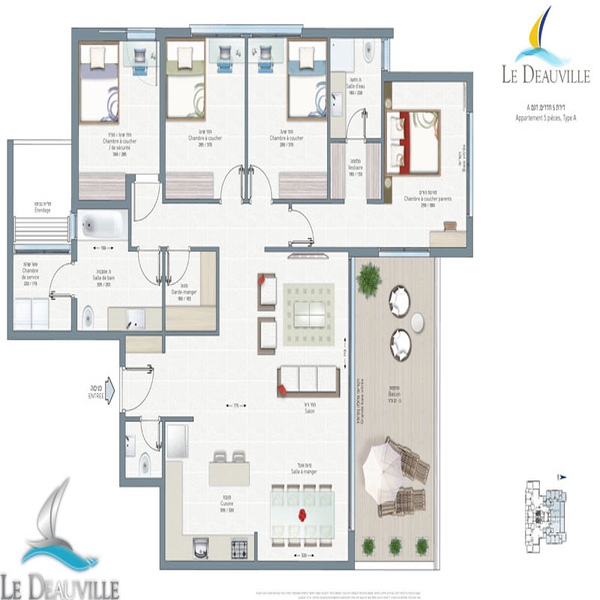door: (116, 364, 160, 415), (285, 204, 321, 245), (130, 180, 161, 224), (42, 264, 84, 296), (135, 244, 163, 289), (248, 162, 275, 204), (139, 418, 166, 456), (167, 246, 190, 288), (220, 164, 242, 204), (345, 106, 366, 142)
room: (157, 415, 355, 572), (381, 67, 474, 259), (157, 24, 249, 208), (74, 25, 161, 208), (243, 28, 330, 205), (327, 24, 388, 143), (7, 250, 80, 342), (158, 244, 219, 336)
wall: (5, 141, 16, 339), (160, 560, 352, 571), (70, 28, 79, 211), (158, 28, 167, 179), (306, 28, 393, 41), (381, 72, 470, 82), (5, 330, 214, 334), (325, 37, 330, 204), (119, 414, 127, 484), (429, 246, 470, 257), (75, 200, 128, 208), (120, 479, 164, 487), (247, 32, 248, 165)
window: (193, 22, 304, 37), (15, 242, 72, 257), (15, 243, 69, 257), (382, 247, 424, 257)
